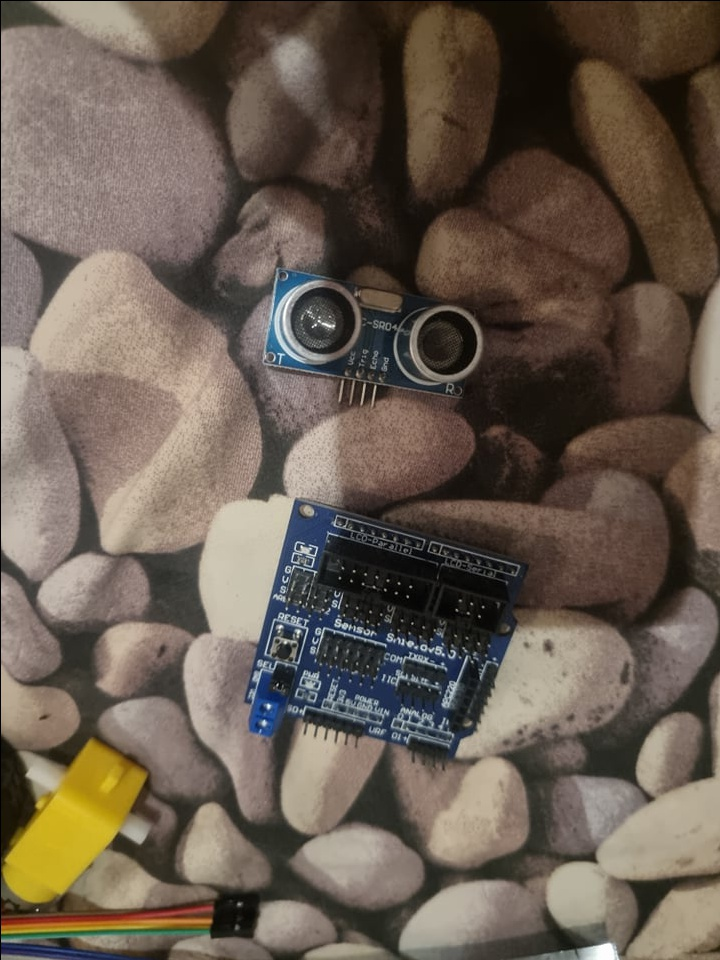5V EXPANSION: (242, 496, 525, 769)
SENSOR: (260, 263, 486, 397)
